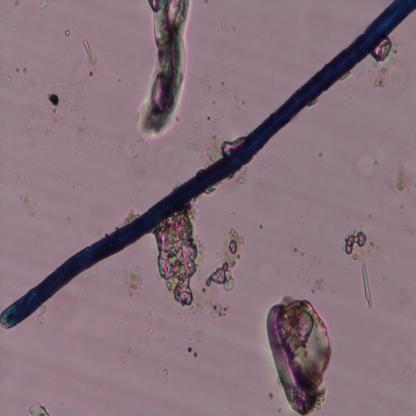Background material: (268, 294, 332, 414), (155, 212, 203, 310), (185, 63, 235, 135), (61, 61, 95, 150), (206, 223, 247, 294), (288, 237, 326, 294), (366, 60, 406, 96), (341, 231, 381, 266), (203, 132, 241, 164), (199, 287, 233, 321), (348, 146, 378, 184), (132, 297, 161, 336), (248, 260, 282, 288), (389, 160, 413, 194), (184, 323, 204, 363), (122, 266, 145, 300), (359, 264, 372, 312), (127, 132, 149, 160), (374, 37, 392, 64), (82, 36, 97, 67), (18, 194, 37, 218), (121, 342, 142, 362), (49, 90, 62, 121), (153, 362, 169, 385), (28, 400, 49, 416), (216, 8, 228, 31), (0, 65, 12, 85), (37, 305, 49, 325), (37, 0, 50, 11), (63, 27, 71, 40)
Cellulose filter fibre: (138, 0, 192, 138)
Microfibre: (0, 0, 416, 329)
